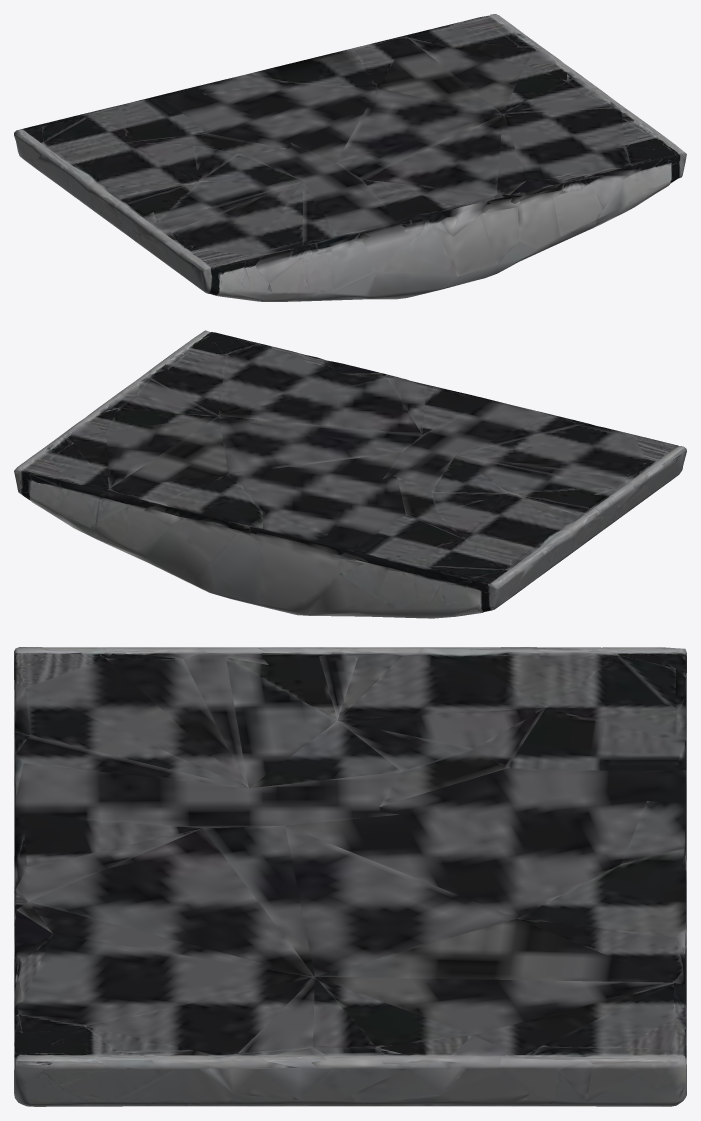
Rendered from monolith_chessboard_rolls_royce.glb.
3 renders of one model, top to bottom at view 1: azimuth 30°, elevation 25°; view 2: azimuth 150°, elevation 25°; view 3: azimuth 270°, elevation 25°, orthographic. The views are drawn at different scales.
Size of the model in its own units: 1.9 by 0.3008 by 1.29.
Materials: 1 (1 with a texture image).
